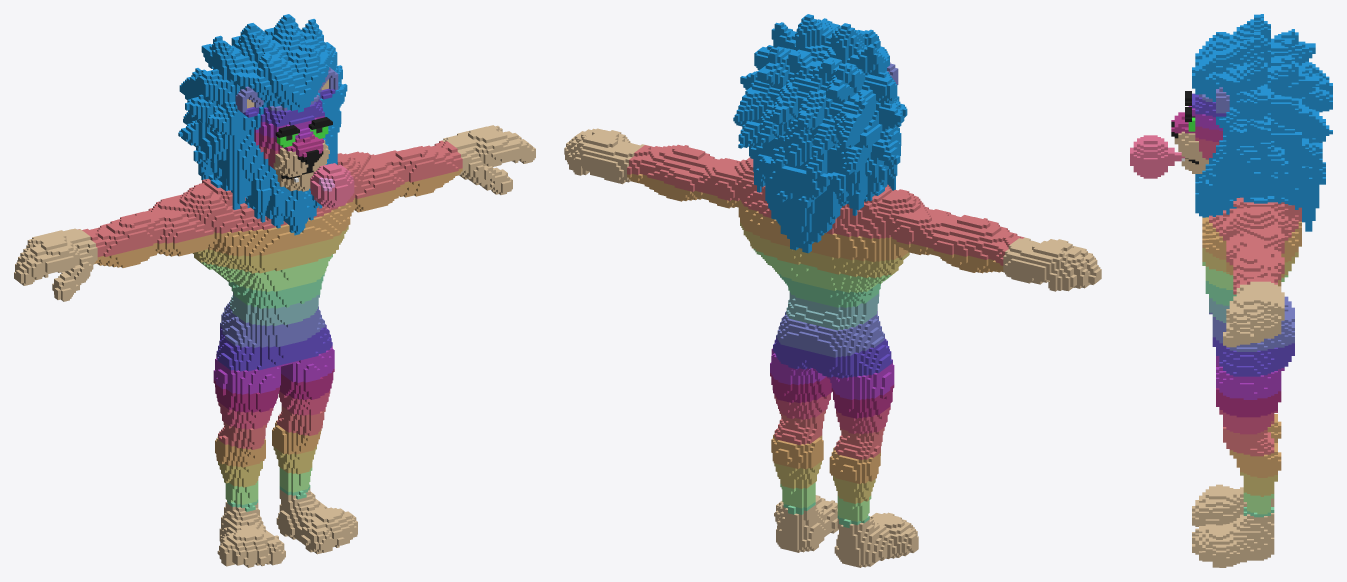
File: 258-CqiRf-Wo.glb
The picture shows the model from 3 angles, left to right: view 1: azimuth 30°, elevation 25°; view 2: azimuth 150°, elevation 25°; view 3: azimuth 270°, elevation 25°; orthographic projection. The views are drawn at different scales.
Visible parts, largest first — view 1: bubble_gum; view 2: bubble_gum; view 3: bubble_gum.
Part boxes in pixels (box(x1,y1,x2,y2)): bubble_gum: box(14, 14, 535, 567); bubble_gum: box(564, 14, 1101, 567); bubble_gum: box(1130, 14, 1332, 567).
Size of the model in its own units: 17.2 by 16.5 by 5.9.
Materials: 4 (4 with a texture image).
